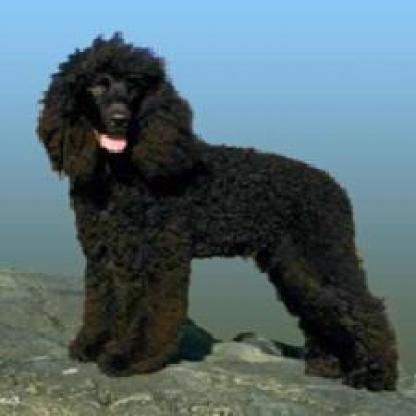Irish_water_spaniel: (33, 29, 401, 393)
